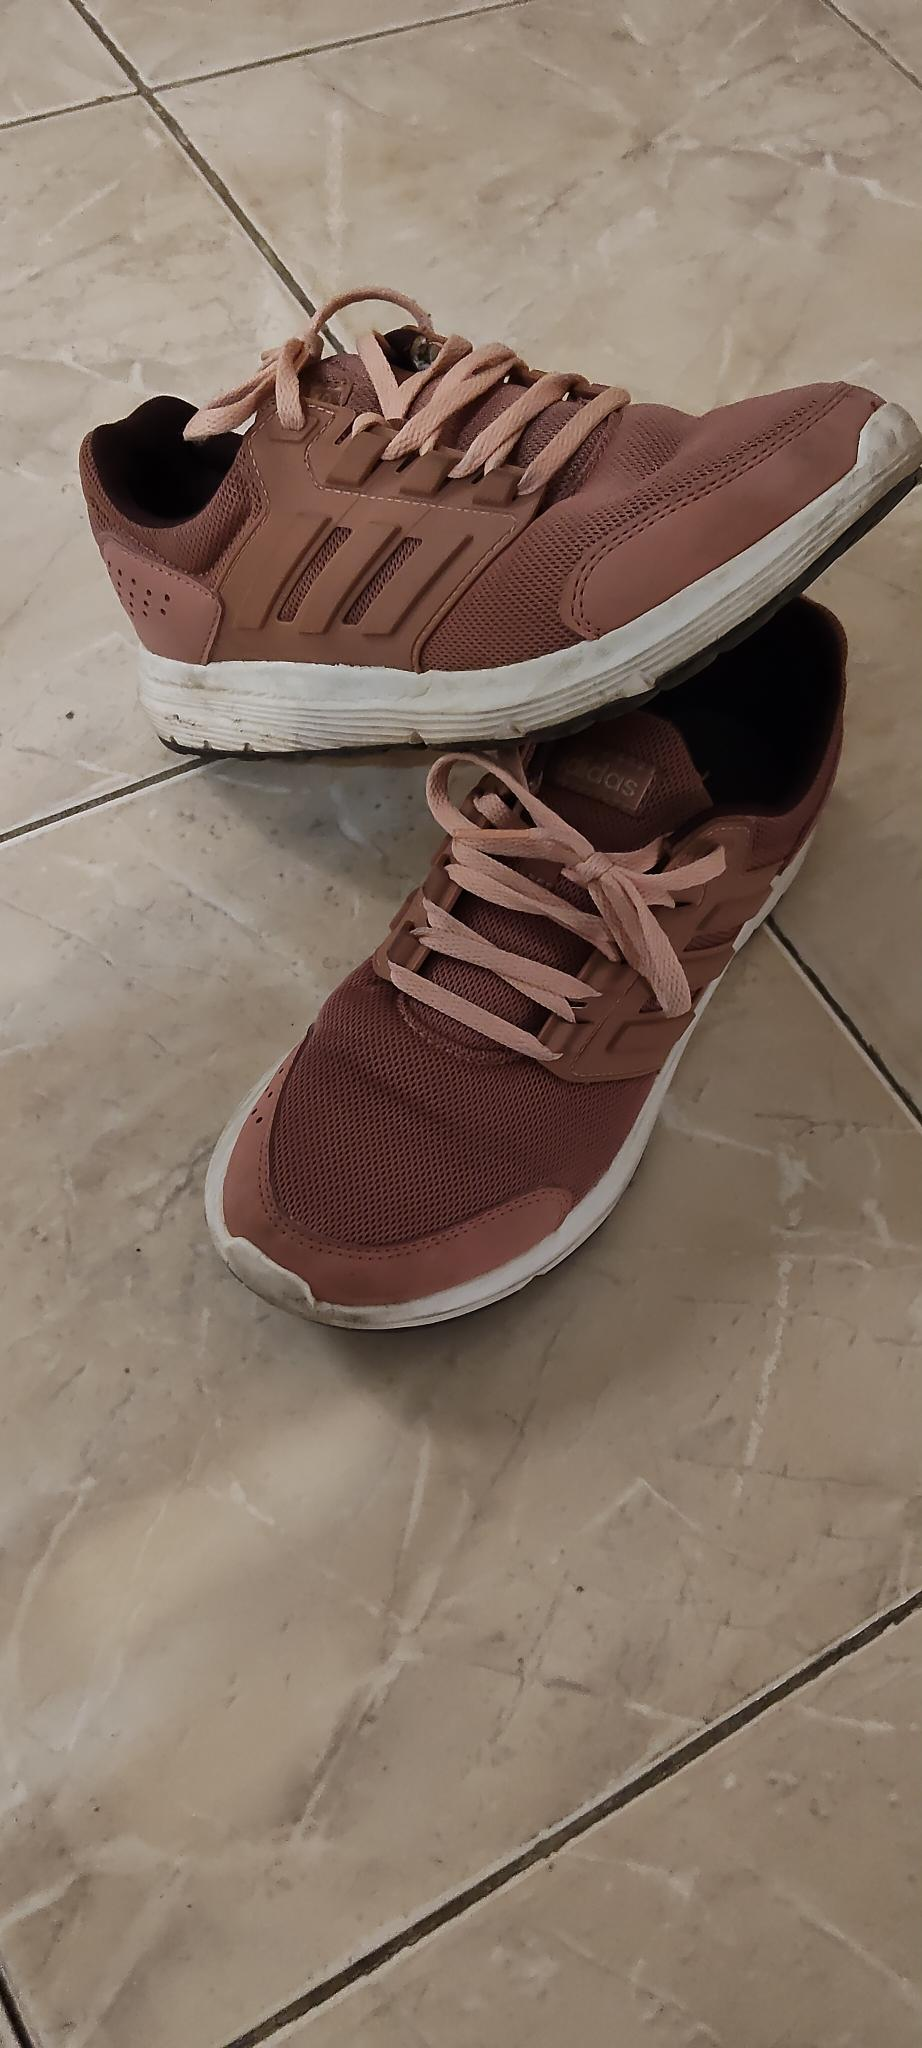Shoes: (208, 588, 852, 1328), (75, 286, 922, 751)
